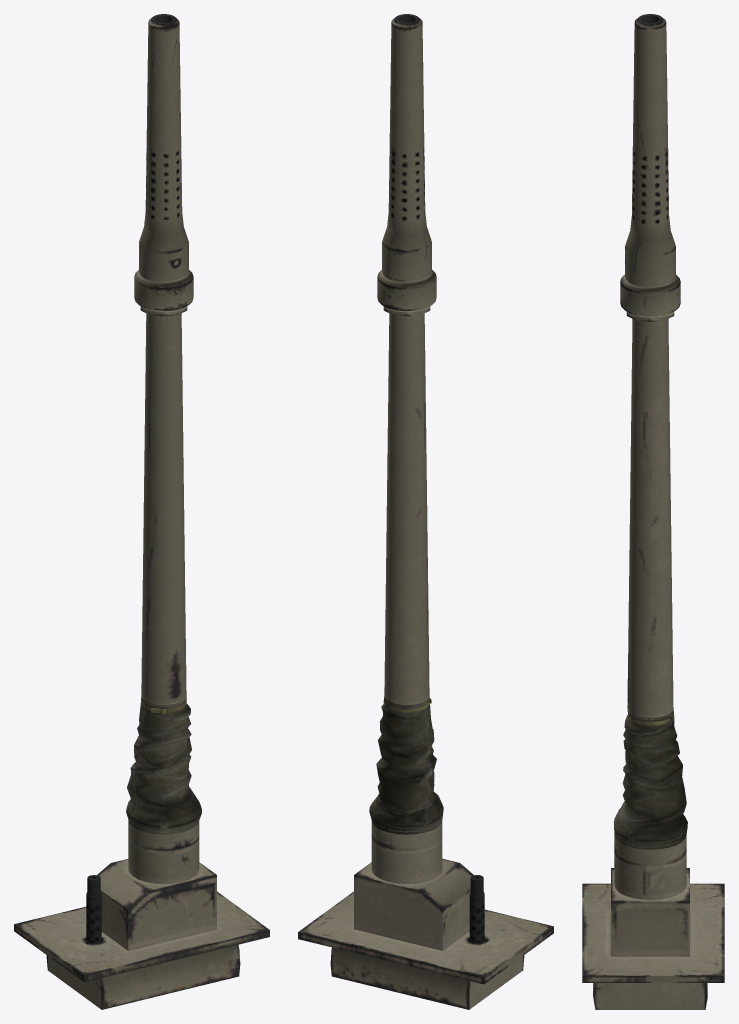
Rendered from Gun_05.glb.
3 renders of one model, left to right at view 1: azimuth 30°, elevation 25°; view 2: azimuth 150°, elevation 25°; view 3: azimuth 270°, elevation 25°, orthographic.
Visible parts, largest first — view 1: set_0_group_0; view 2: set_0_group_0; view 3: set_0_group_0.
Part boxes in pixels (bbox=[...]): set_0_group_0: bbox=[14, 14, 269, 1009]; set_0_group_0: bbox=[298, 14, 553, 1009]; set_0_group_0: bbox=[582, 14, 724, 1009].
Bounding box in the file's own units: 0.69 × 3.37 × 0.449.
Materials: 1 (1 with a texture image).
